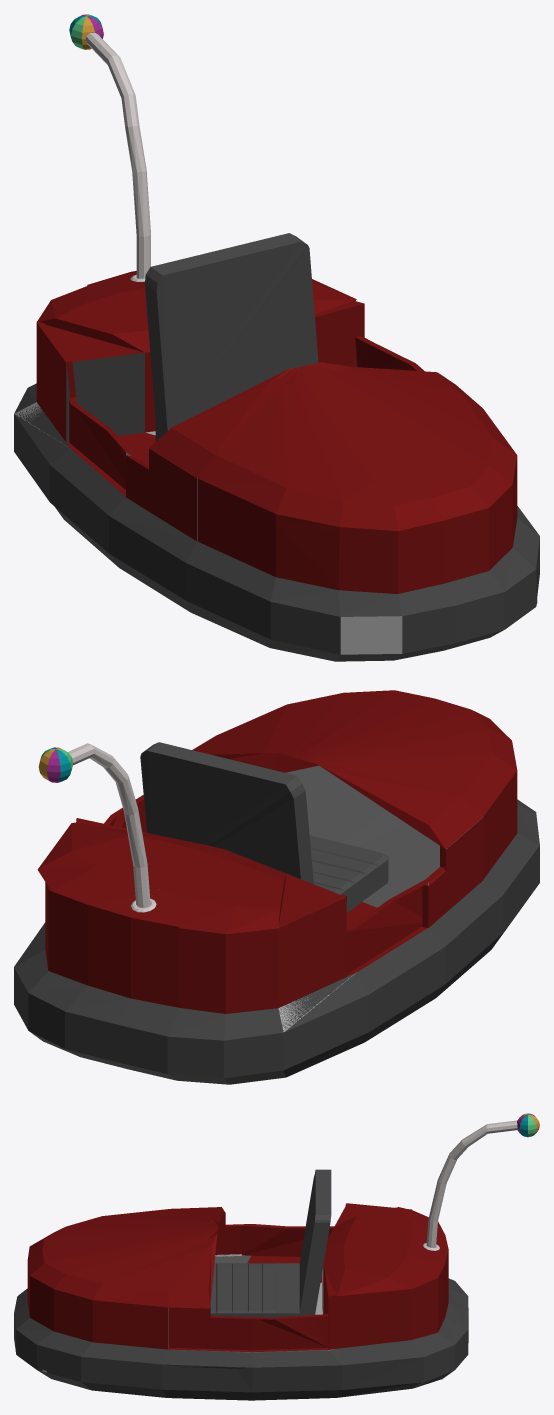
The model's file is botsauto finished textured.fbx.
The picture shows the model from 3 angles, top to bottom: view 1: azimuth 30°, elevation 25°; view 2: azimuth 150°, elevation 25°; view 3: azimuth 270°, elevation 25°; orthographic projection. The views are drawn at different scales.
Visible parts, largest first — view 1: pTorus3; view 2: pTorus3; view 3: pTorus3.
Part boxes in pixels (left/top/right/bottom): pTorus3: left=14, top=14, right=539, bottom=661; pTorus3: left=14, top=690, right=539, bottom=1084; pTorus3: left=14, top=1113, right=539, bottom=1400.
Size of the model in its own units: 2.19 by 2.24 by 4.44.
